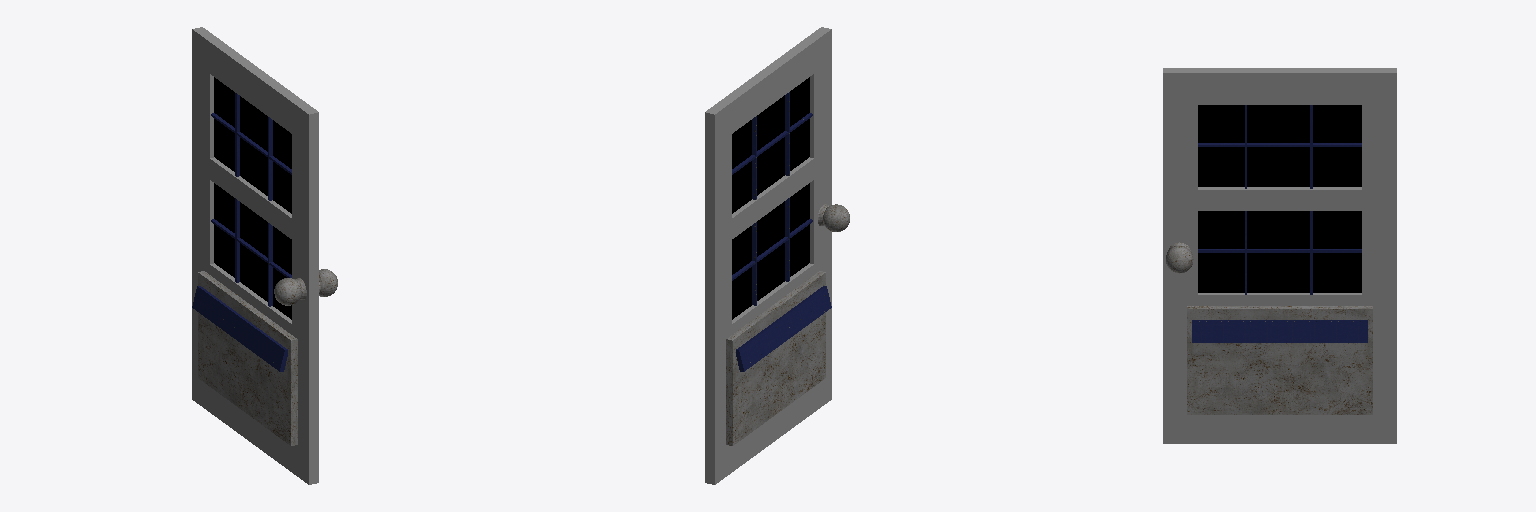
3 views of the same model, side by side, from view 1: azimuth 30°, elevation 25°; view 2: azimuth 150°, elevation 25°; view 3: azimuth 270°, elevation 25° (orthographic).
Parts seen in each view (by area): view 1: Box016, Box013, Box001, Box004, Box005, Box003, Box014, Box006, Box009, Box019, Sphere001; view 2: Box016, Box013, Box001, Box003, Box005, Box004, Box014, Box006, Box019, Box009, Sphere001; view 3: Box016, Box013, Box001, Box005, Box003, Box004, Box015, Box006, Box017, Box018, Sphere002.
Boxes of the visible parts, box(x1,y1,x2,y2) form: Box016: box(214, 77, 291, 319); Box013: box(198, 271, 297, 445); Box001: box(192, 252, 318, 484); Box004: box(292, 134, 318, 400); Box005: box(192, 27, 318, 145); Box003: box(192, 61, 213, 318); Box014: box(192, 286, 287, 371); Box006: box(210, 157, 291, 238); Box009: box(235, 93, 239, 282); Box019: box(268, 117, 272, 306); Sphere001: box(274, 278, 301, 305); Box016: box(732, 77, 809, 319); Box013: box(726, 271, 825, 445); Box001: box(705, 252, 831, 484); Box003: box(705, 134, 731, 399); Box005: box(705, 27, 831, 145); Box004: box(810, 61, 831, 316); Box014: box(736, 286, 831, 371); Box006: box(732, 157, 813, 238); Box019: box(785, 92, 789, 281); Box009: box(752, 116, 756, 305); Sphere001: box(823, 204, 849, 231); Box016: box(1198, 105, 1361, 292); Box013: box(1187, 306, 1372, 414); Box001: box(1163, 293, 1396, 443); Box005: box(1163, 68, 1396, 104); Box003: box(1362, 105, 1396, 358); Box004: box(1163, 105, 1197, 358); Box015: box(1192, 320, 1367, 342); Box006: box(1198, 187, 1361, 210); Box017: box(1198, 249, 1361, 252); Box018: box(1198, 143, 1361, 146); Sphere002: box(1166, 246, 1193, 273).
Bounding box in the file's own units: 14.9 × 87.5 × 50.
Materials: 4 (3 with a texture image).